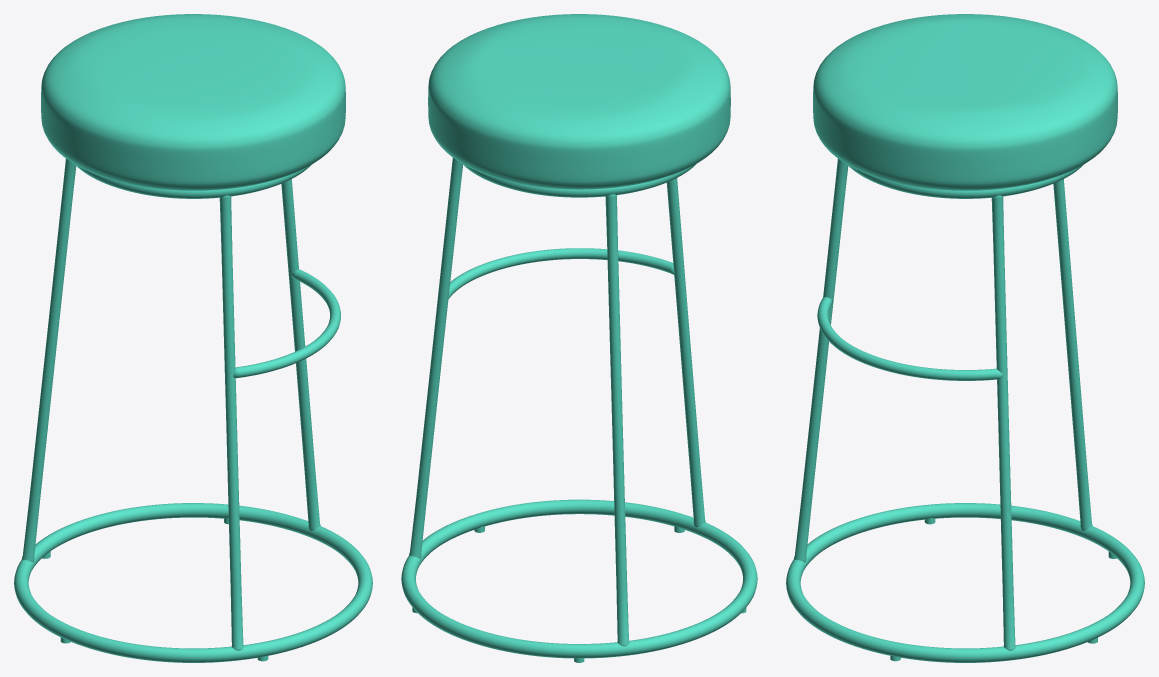
File: stool.obj
3 views of the same model, side by side, from view 1: azimuth 30°, elevation 25°; view 2: azimuth 150°, elevation 25°; view 3: azimuth 270°, elevation 25° (orthographic).
Visible parts, largest first — view 1: fabric; view 2: fabric; view 3: fabric.
Boxes of the visible parts, box(x1,y1,x2,y2) form: fabric: box(14, 14, 372, 662); fabric: box(401, 14, 757, 662); fabric: box(786, 14, 1144, 662).
Bounding box in the file's own units: 49.01 × 79.54 × 49.01.
